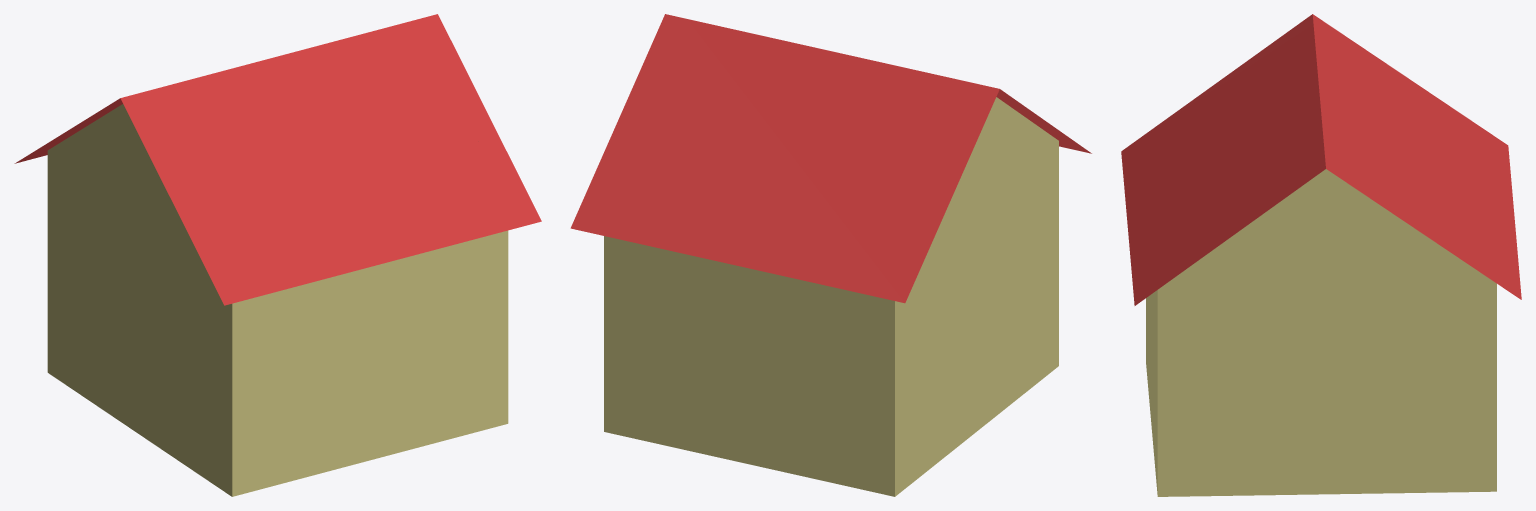
3 renders of one model, left to right at view 1: azimuth 30°, elevation 25°; view 2: azimuth 150°, elevation 25°; view 3: azimuth 270°, elevation 25°, orthographic. The views are drawn at different scales.
Size of the model in its own units: 11.92 by 12.54 by 11.59.
